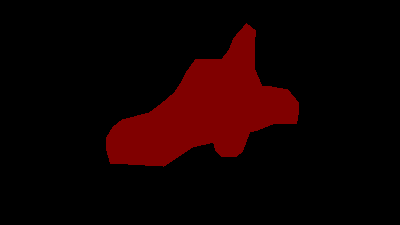fire: (106, 23, 298, 166)
